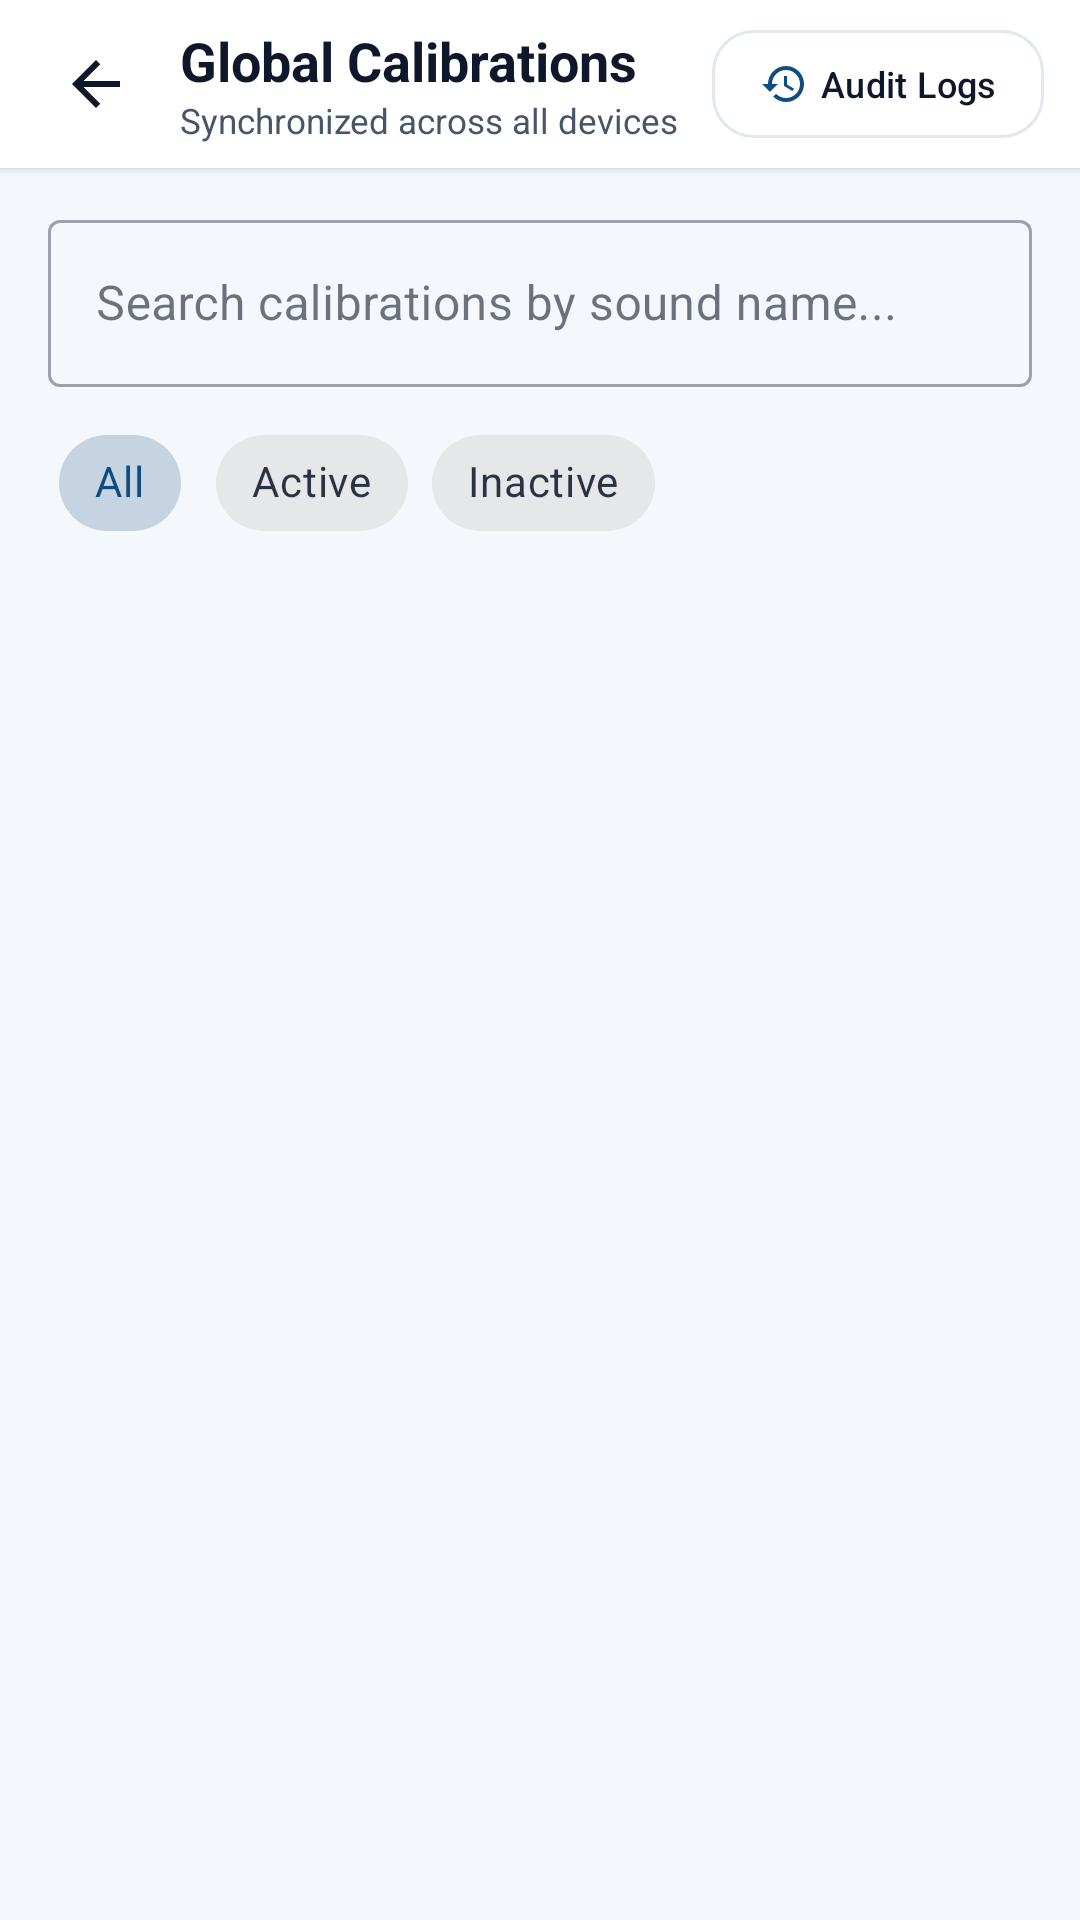

Where icons sit on this 1080×1920 app screen, as (x1, y1, x2, y2):
Back: (72, 60, 120, 108)
